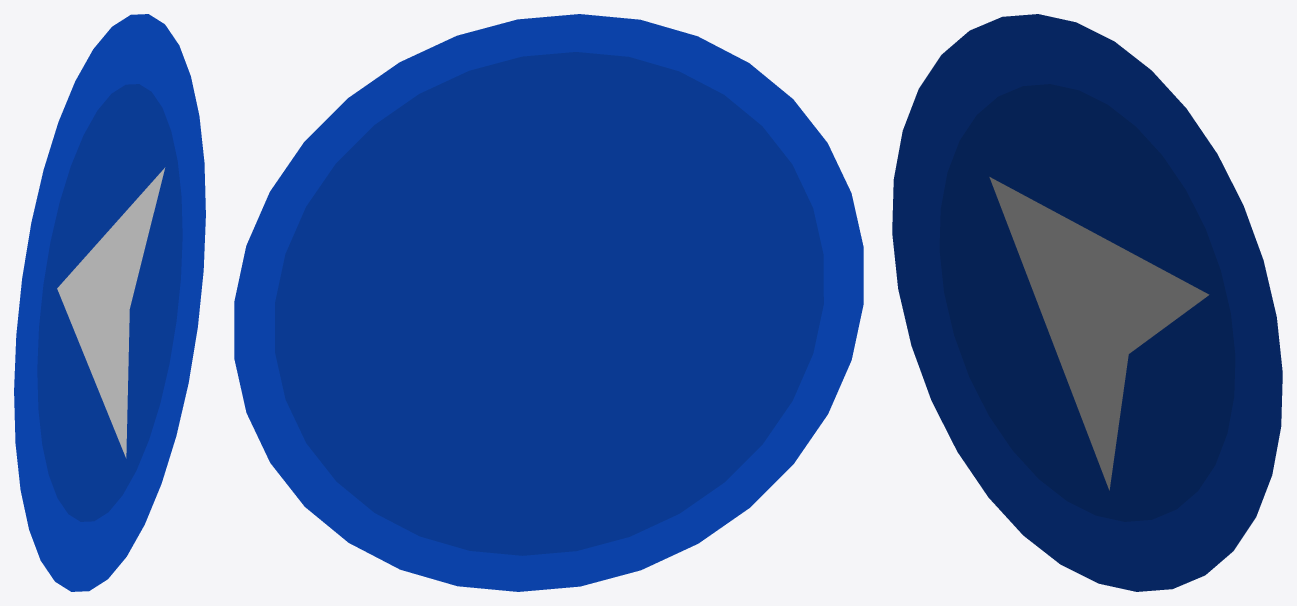
File: circlePlane.fbx
3 renders of one model, left to right at view 1: azimuth 30°, elevation 25°; view 2: azimuth 150°, elevation 25°; view 3: azimuth 270°, elevation 25°, orthographic. The views are drawn at different scales.
Parts seen in each view (by area): view 1: Disc, Tube, Polygon; view 2: Disc, Tube; view 3: Disc, Tube, Polygon.
Boxes of the visible parts, left/top/right/bottom form: Disc: left=37, top=84, right=182, bottom=521; Tube: left=14, top=14, right=205, bottom=591; Polygon: left=57, top=167, right=165, bottom=458; Disc: left=275, top=52, right=823, bottom=555; Tube: left=234, top=14, right=863, bottom=591; Disc: left=939, top=84, right=1235, bottom=521; Tube: left=892, top=14, right=1282, bottom=591; Polygon: left=989, top=177, right=1209, bottom=490.
Bounding box in the file's own units: 994 × 1313 × 862.
